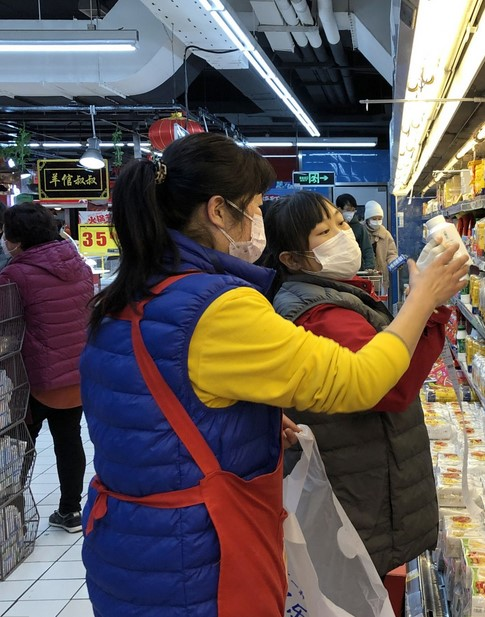face_with_mask: (170, 135, 273, 275), (275, 187, 365, 286)
